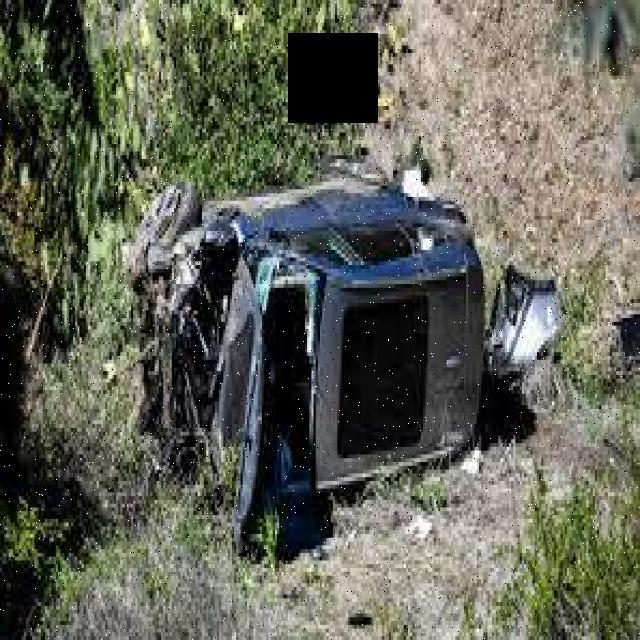single accident: (83, 78, 510, 550)
